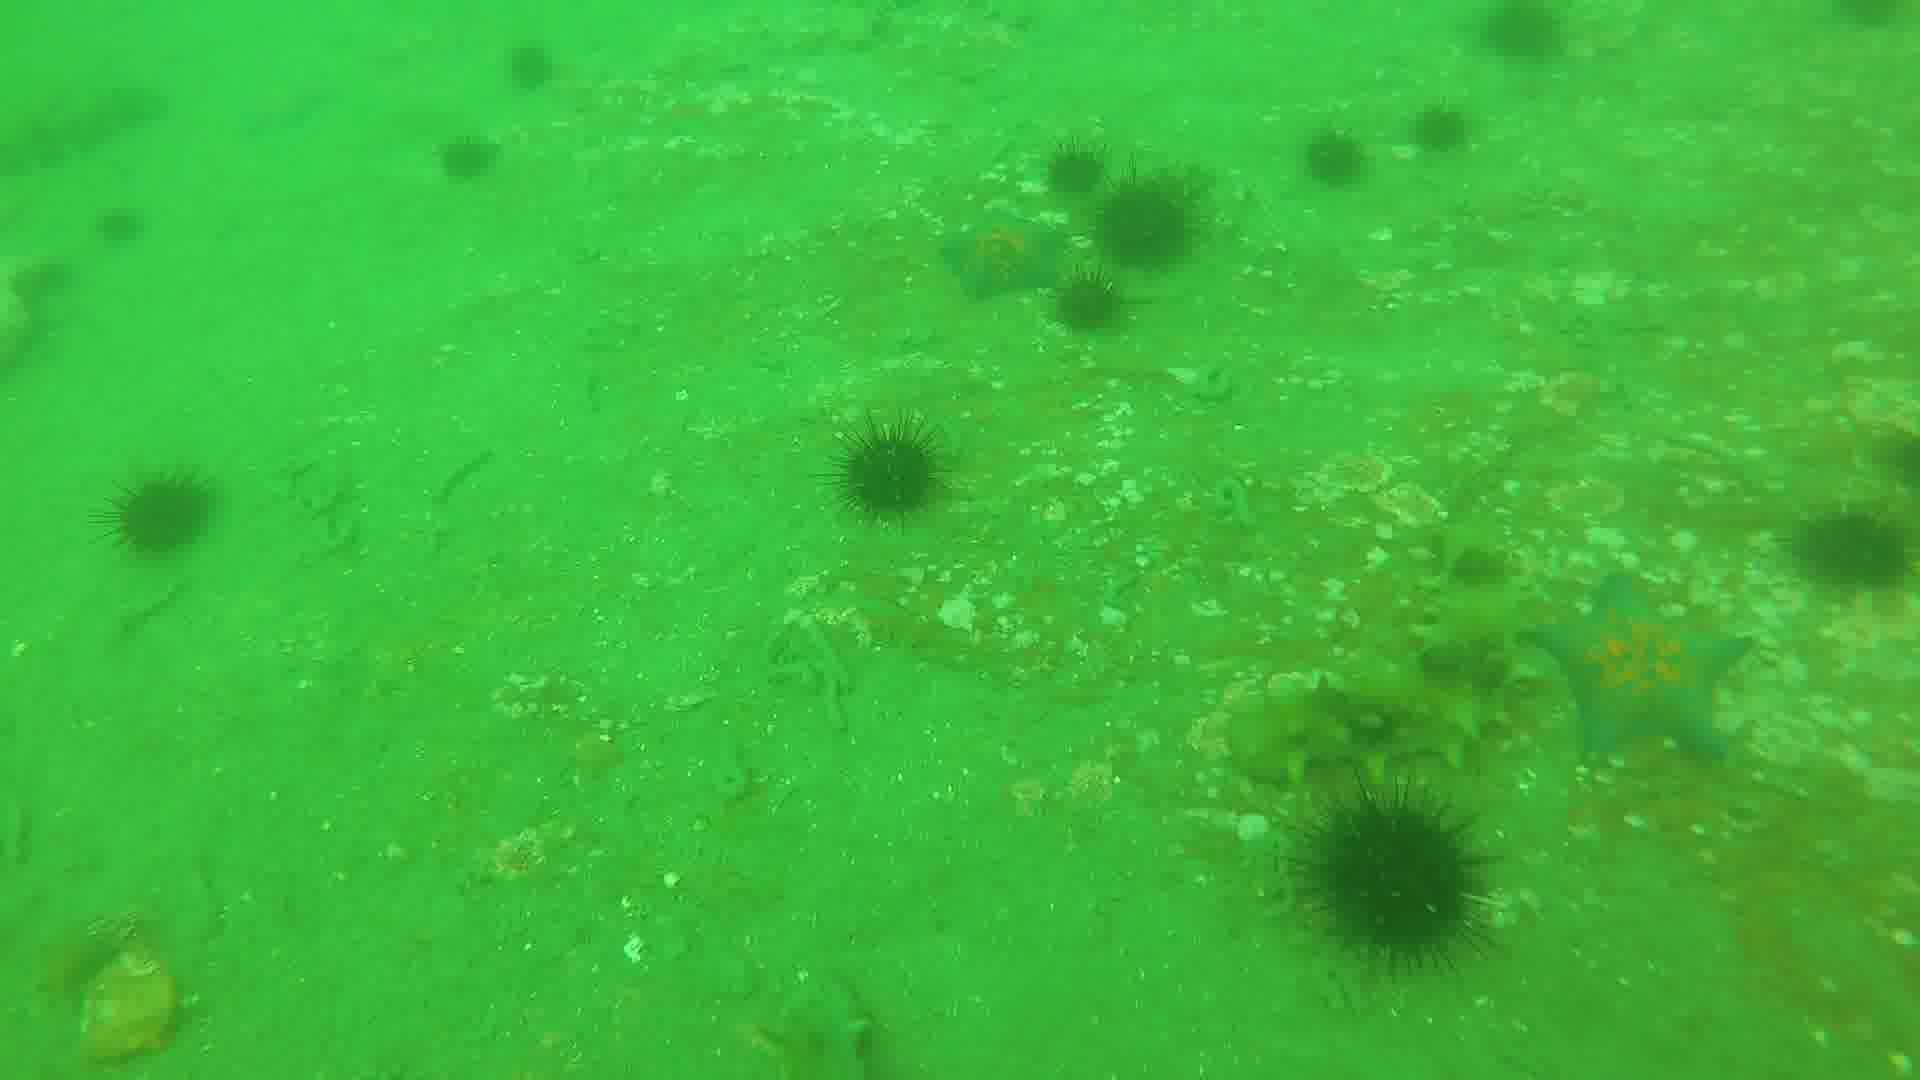echinus: (1304, 789, 1478, 965), (1784, 500, 1916, 601), (1098, 177, 1200, 280), (851, 429, 943, 524), (107, 484, 223, 551), (1487, 1, 1573, 74), (1054, 272, 1139, 332), (1300, 132, 1374, 190), (504, 47, 571, 103), (1043, 144, 1112, 198), (1410, 113, 1474, 164), (92, 200, 152, 253), (442, 136, 502, 185)
holothurian: (1236, 516, 1535, 794)
starfish: (1530, 568, 1750, 770), (942, 214, 1073, 313), (249, 70, 327, 138)
